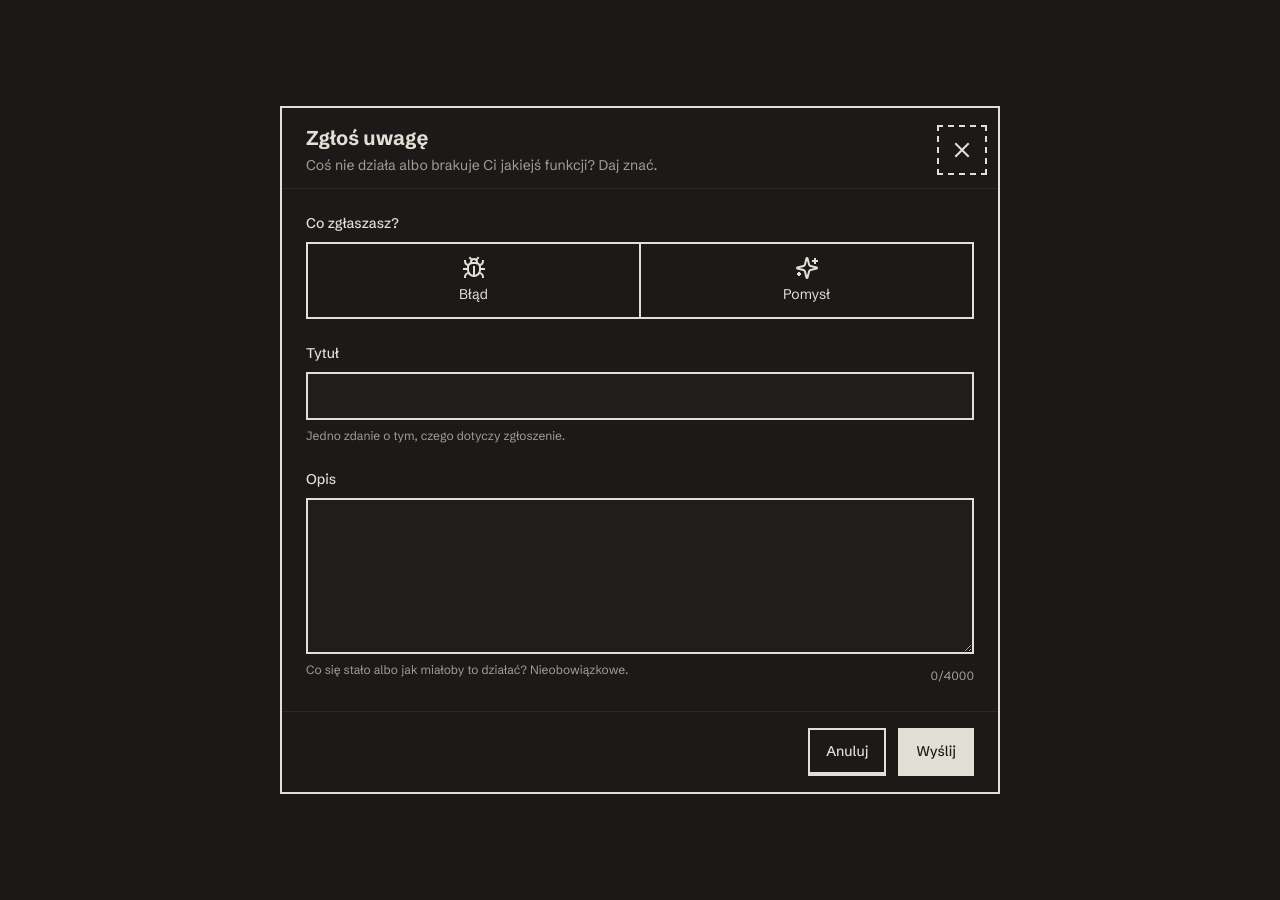
FeedbackDialog › keeps the text and shows an alert when sending fails
Click the radio button labelled "Błąd".
click(474, 280)  # box [308, 244, 639, 317]
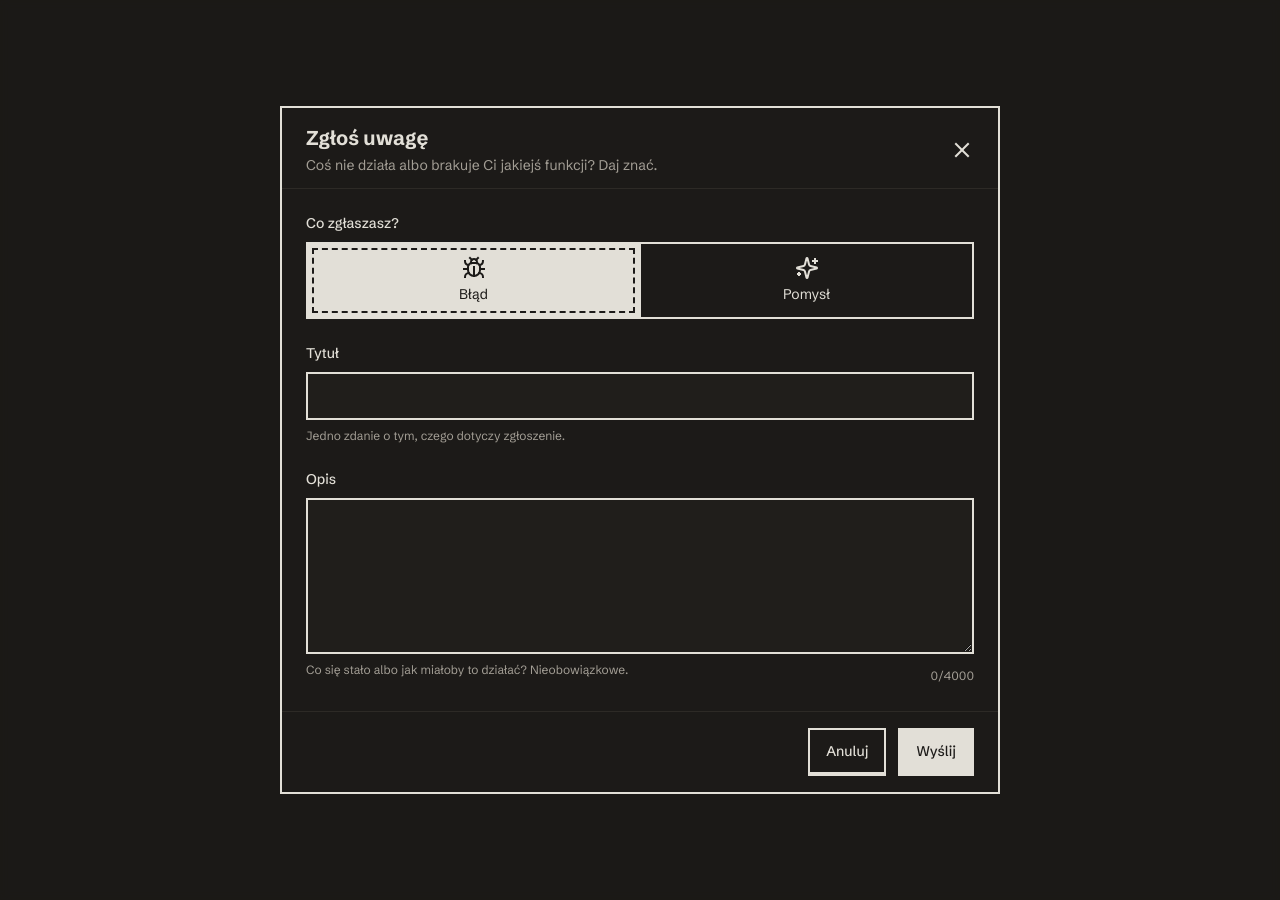
Type "Broken filter" into the field labelled "Tytuł".
click(640, 396); type("Broken filter")  # box [308, 374, 972, 418]
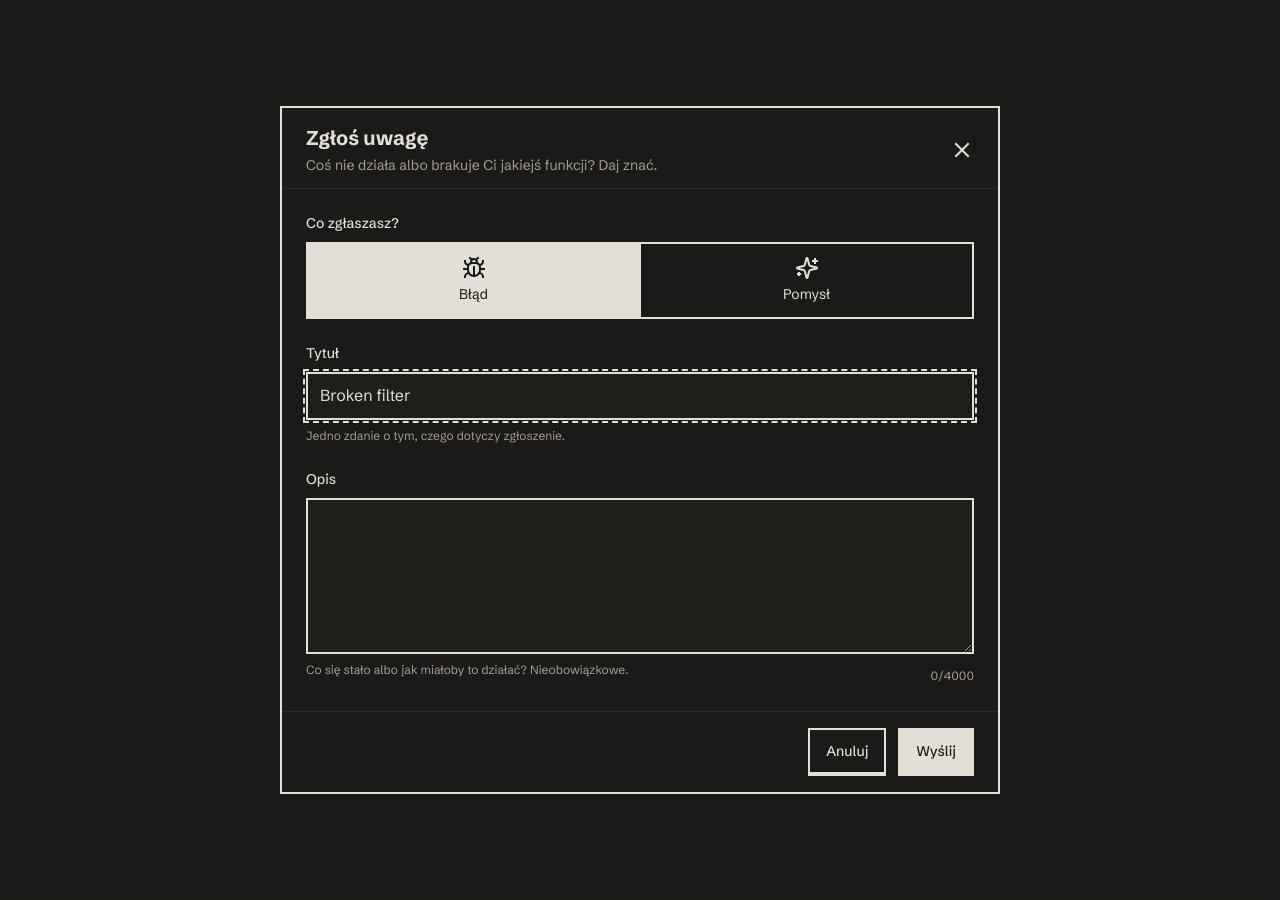
Click the button "Wyślij".
click(936, 752)  # box [898, 728, 974, 776]
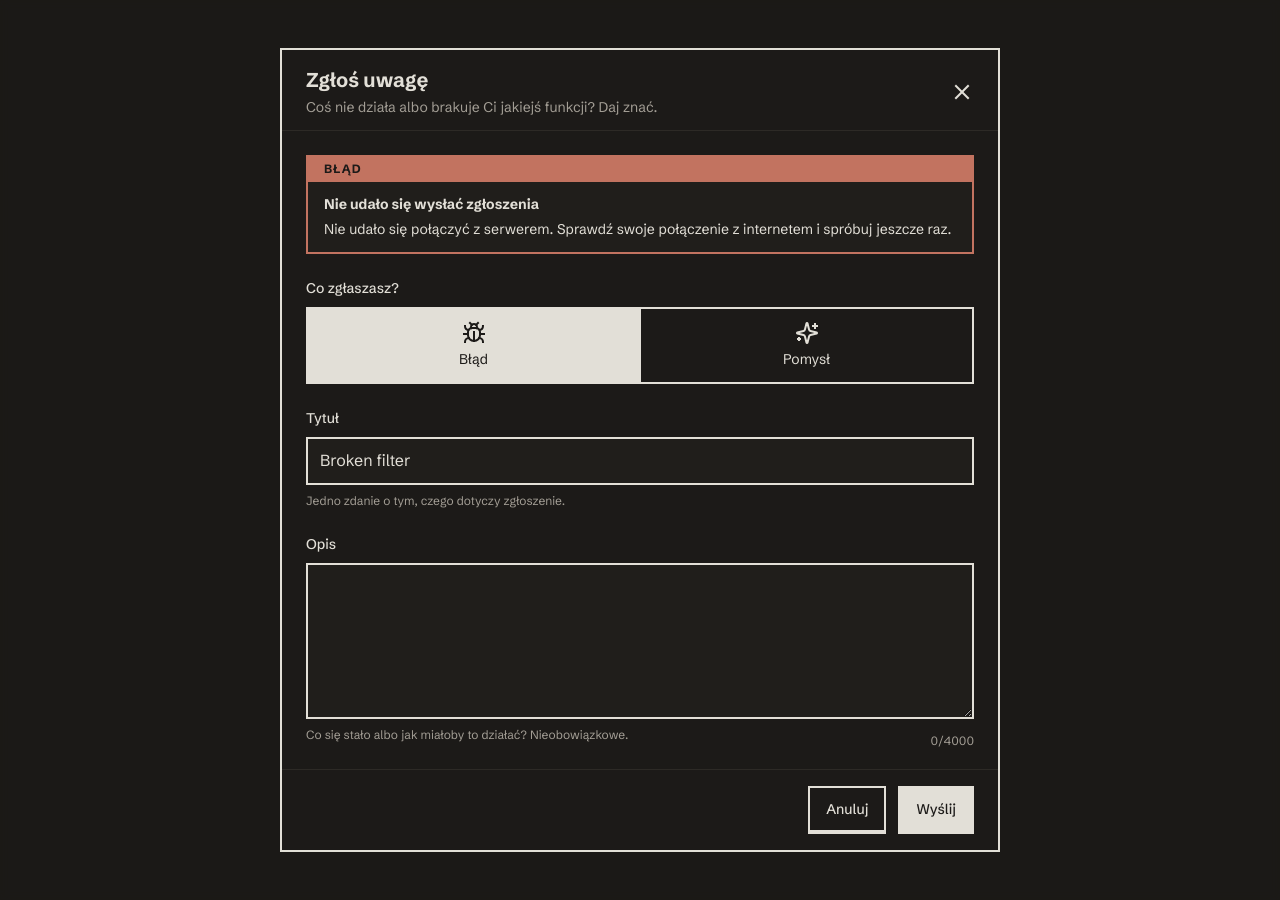
Expected: the text "Nie udało się wysłać zgłoszenia" is shown, [324, 195, 539, 213]
